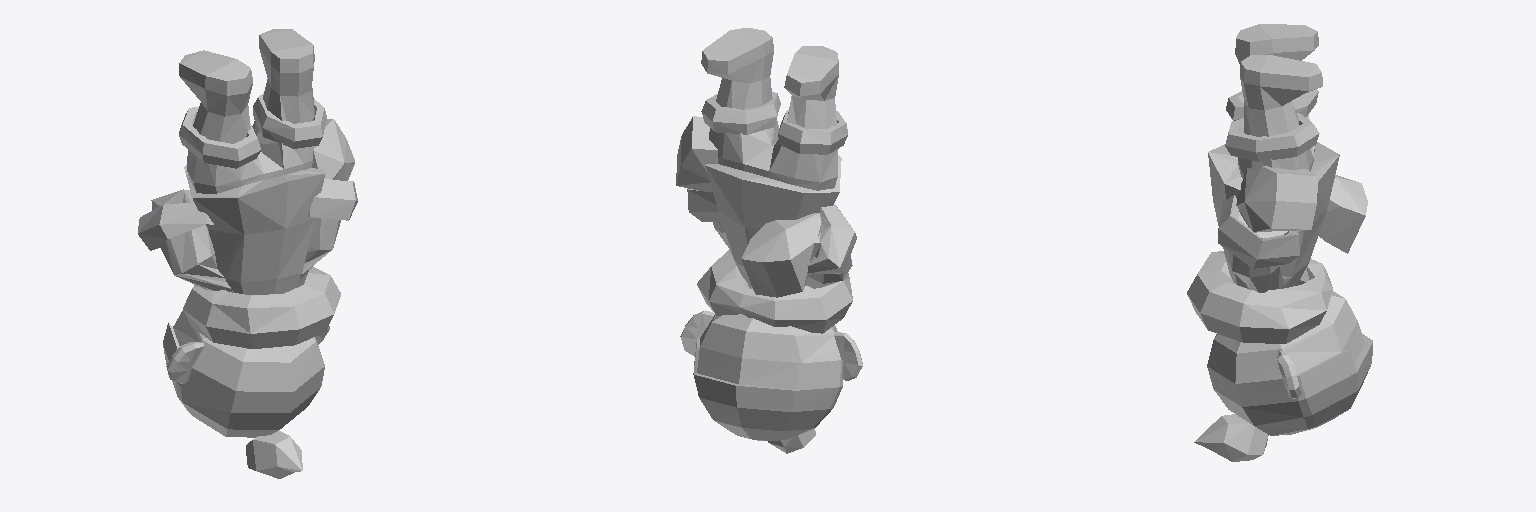
File: eikacomer_000027.obj
3 renders of one model, left to right at view 1: azimuth 30°, elevation 25°; view 2: azimuth 150°, elevation 25°; view 3: azimuth 270°, elevation 25°, orthographic.
Parts seen in each view (by area): view 1: Cylinder; view 2: Cylinder; view 3: Cylinder.
Part boxes in pixels (x1,y1,x2,y2): Cylinder: (138,29,357,478); Cylinder: (676,28,862,453); Cylinder: (1187,24,1372,461).
Bounding box in the file's own units: 27 × 55.97 × 22.94.